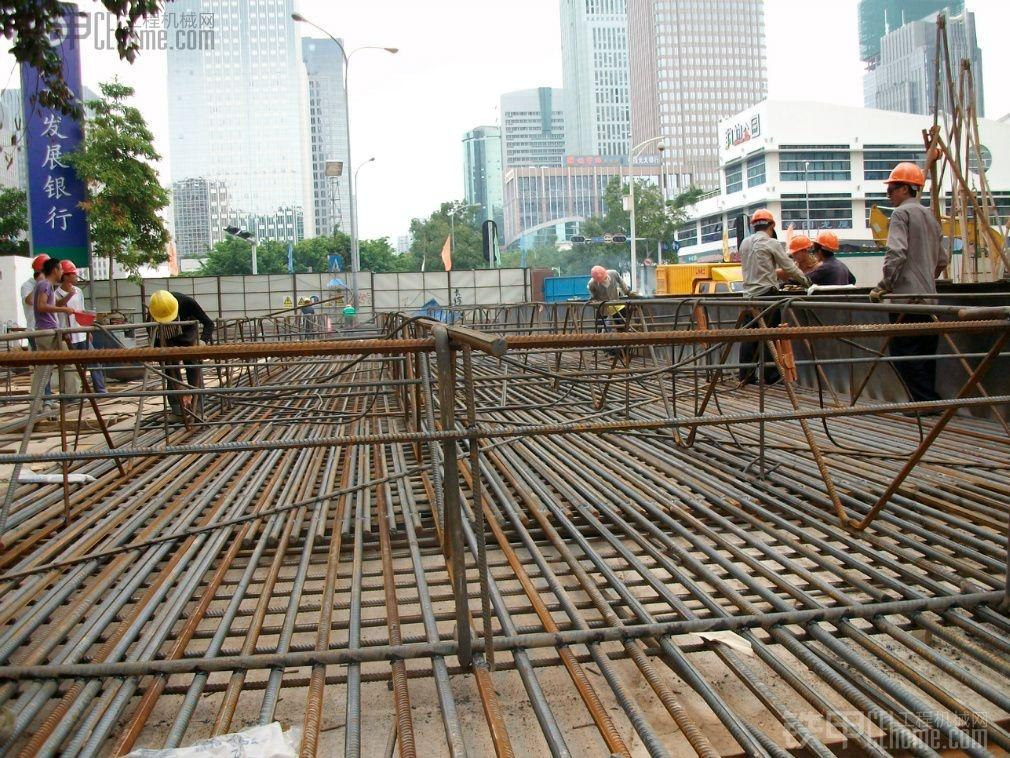Helmet: (883, 160, 924, 203), (148, 291, 179, 326)
